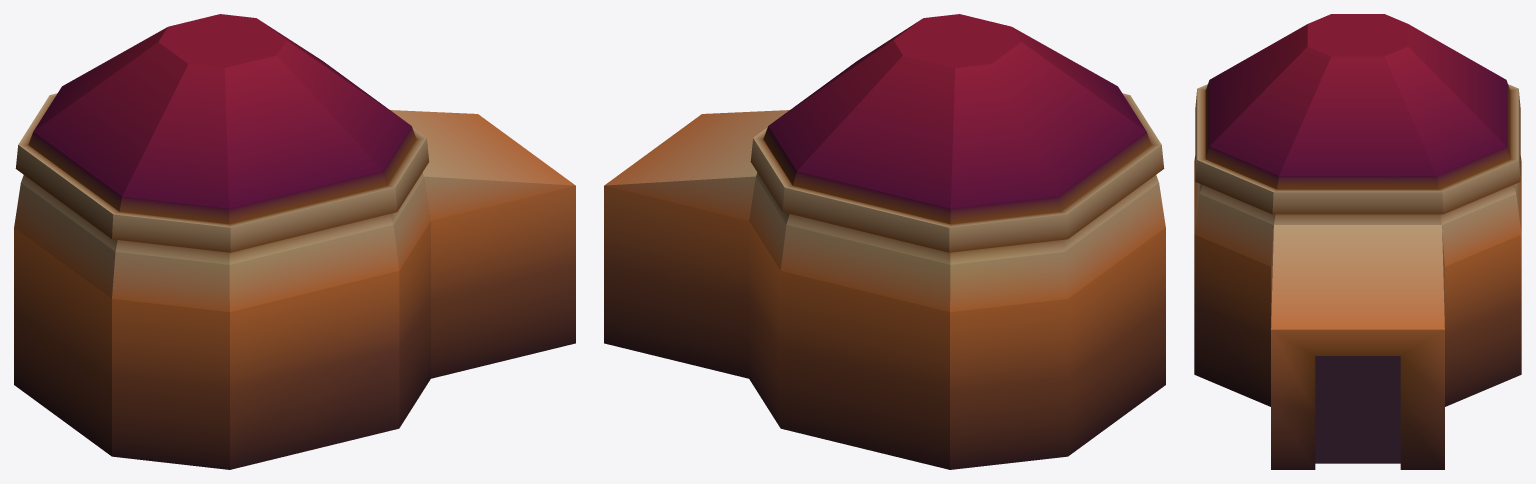
Rendered from Mercona_hut_1.obj.
3 views of the same model, side by side, from view 1: azimuth 30°, elevation 25°; view 2: azimuth 150°, elevation 25°; view 3: azimuth 270°, elevation 25° (orthographic). The views are drawn at different scales.
Visible parts, largest first — view 1: Mercona_hut_2.001; view 2: Mercona_hut_2.001; view 3: Mercona_hut_2.001.
Part boxes in pixels (bbox=[...]): Mercona_hut_2.001: bbox=[14, 14, 575, 469]; Mercona_hut_2.001: bbox=[604, 14, 1165, 469]; Mercona_hut_2.001: bbox=[1194, 14, 1521, 469].
Bounding box in the file's own units: 11.42 × 8.02 × 7.85.
